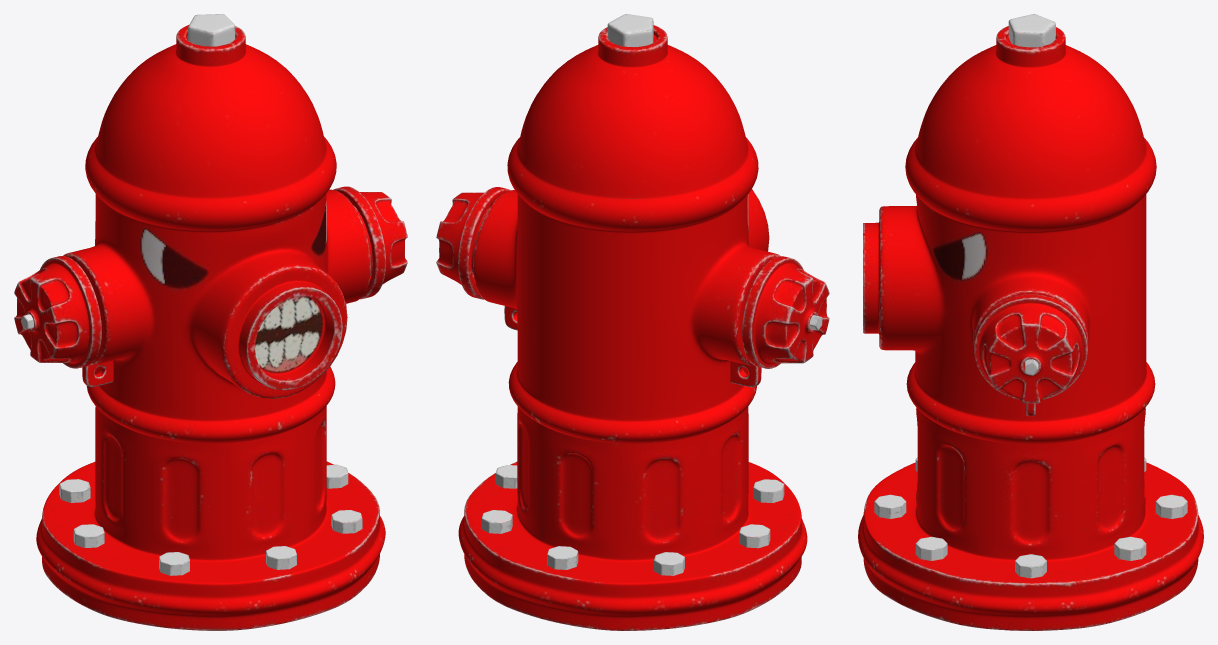
File: hydrant.glb
3 views of the same model, side by side, from view 1: azimuth 30°, elevation 25°; view 2: azimuth 150°, elevation 25°; view 3: azimuth 270°, elevation 25° (orthographic).
Visible parts, largest first — view 1: 2. Top Head.001; view 2: 2. Top Head.001; view 3: 2. Top Head.001.
Part boxes in pixels (box(x1,y1,x2,y2)): 2. Top Head.001: box(14, 14, 407, 630); 2. Top Head.001: box(436, 14, 829, 630); 2. Top Head.001: box(858, 14, 1203, 630).
Bounding box in the file's own units: 2.97 × 4.08 × 2.38.
Materials: 1 (1 with a texture image).
